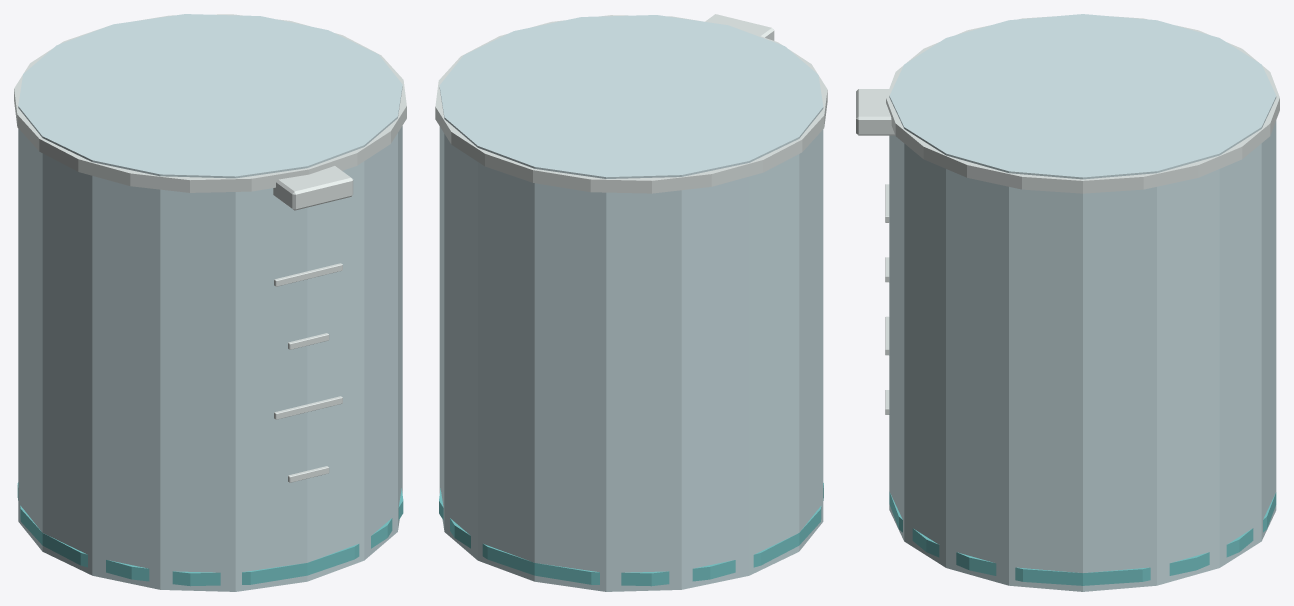
Rendered from chem_beaker.glb.
The picture shows the model from 3 angles, left to right: view 1: azimuth 30°, elevation 25°; view 2: azimuth 150°, elevation 25°; view 3: azimuth 270°, elevation 25°; orthographic projection.
Visible parts, largest first — view 1: Glass vessel, Open lip, Foot, Pouring lip, Graduation.003, Graduation.001; view 2: Glass vessel, Open lip, Foot, Pouring lip; view 3: Glass vessel, Open lip, Foot, Pouring lip.
Part boxes in pixels (x1=…): Glass vessel: x1=18, y1=14, x2=402, y2=591; Open lip: x1=14, y1=14, x2=406, y2=192; Foot: x1=17, y1=482, x2=403, y2=586; Pouring lip: x1=273, y1=166, x2=353, y2=210; Graduation.003: x1=274, y1=263, x2=342, y2=286; Graduation.001: x1=274, y1=396, x2=342, y2=419; Glass vessel: x1=439, y1=15, x2=823, y2=591; Open lip: x1=435, y1=15, x2=827, y2=193; Foot: x1=439, y1=483, x2=823, y2=586; Pouring lip: x1=705, y1=14, x2=774, y2=40; Glass vessel: x1=889, y1=14, x2=1276, y2=591; Open lip: x1=886, y1=16, x2=1279, y2=193; Foot: x1=889, y1=491, x2=1276, y2=585; Pouring lip: x1=856, y1=89, x2=895, y2=135.
Size of the model in its own units: 0.112 by 0.13 by 0.1205.
